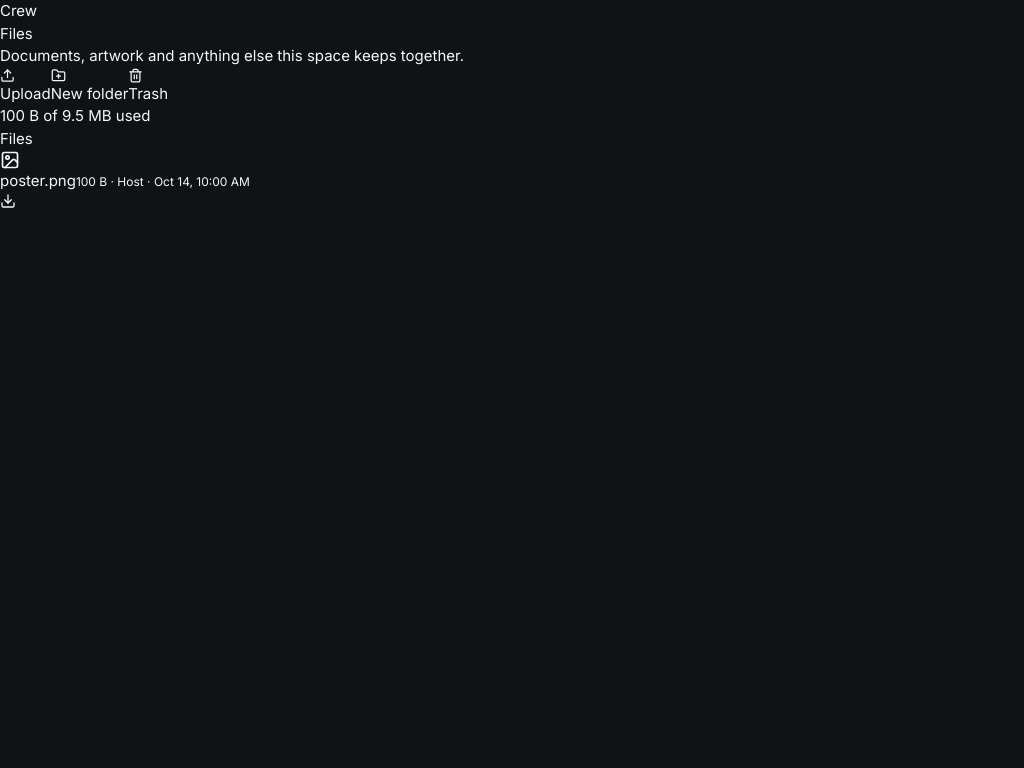
Test: offers editing only for small text files: poster.png
Click the button "poster.png".
click(38, 181)  # box [0,170,76,192]
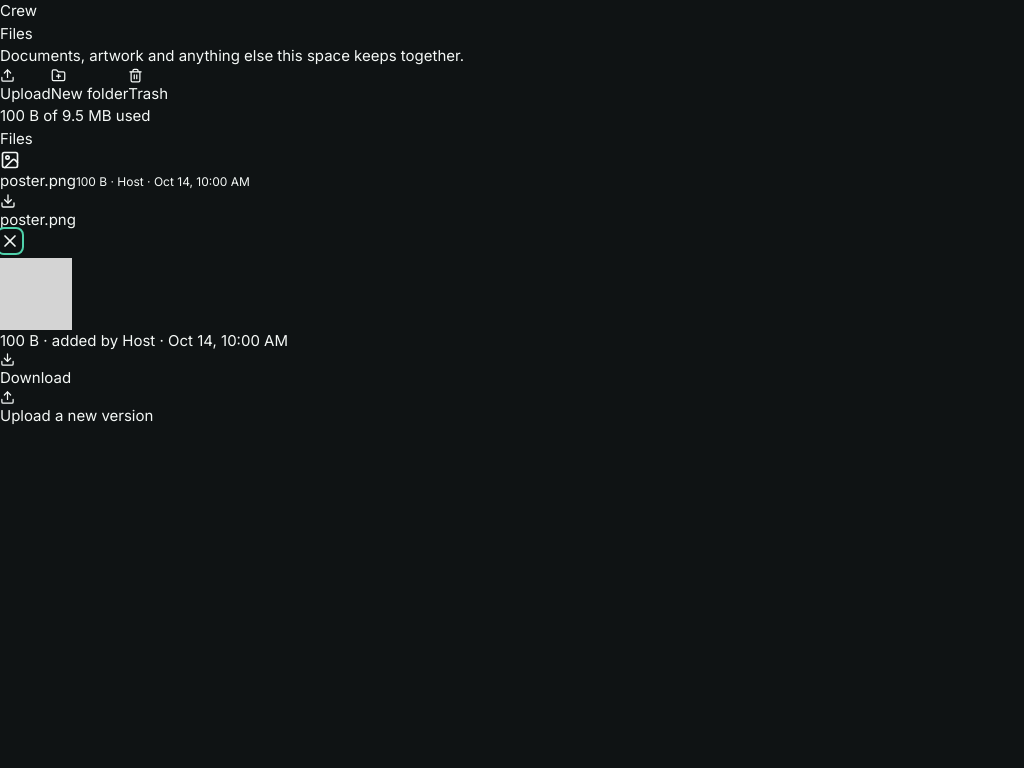
Expected: the dialog "poster.png" is shown, [0,210,288,424]
